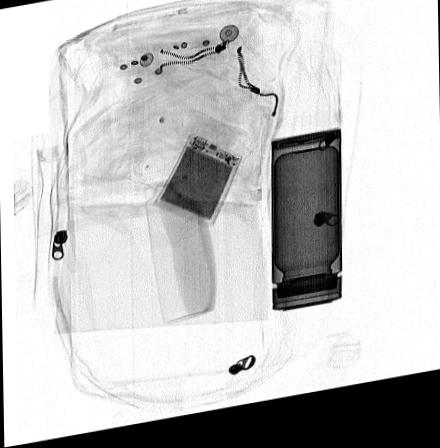Powerbank: (152, 138, 243, 232)
